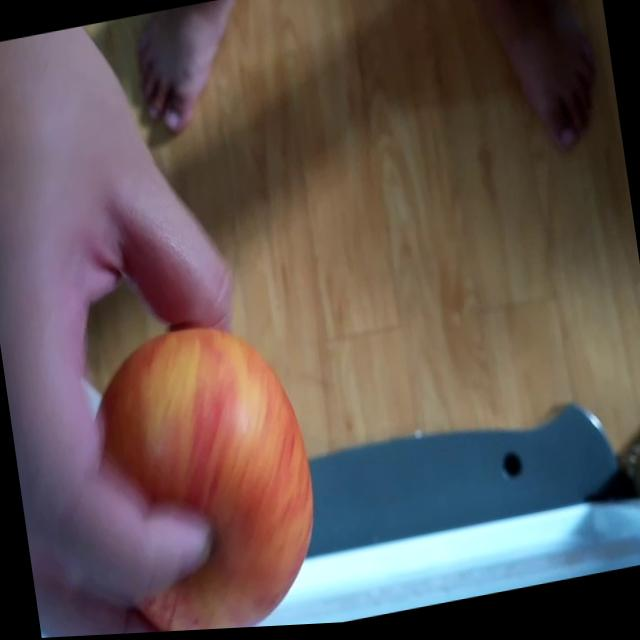apple: (86, 308, 327, 636)
